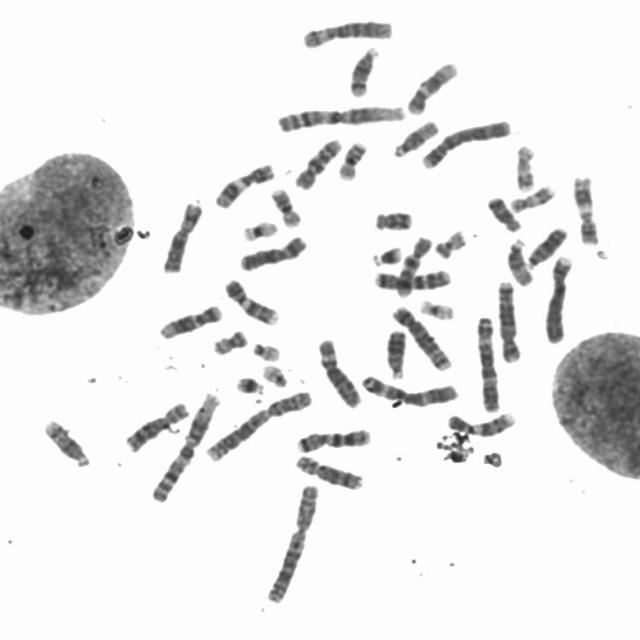A1: (147, 387, 224, 504), (272, 98, 408, 134)
A2: (200, 385, 314, 463), (262, 479, 322, 606)
A3: (358, 371, 462, 408), (472, 312, 503, 413)
B4: (416, 114, 514, 170), (539, 251, 575, 345)
B5: (388, 300, 454, 372), (494, 276, 524, 364)
C10: (290, 133, 344, 191), (393, 231, 434, 299)
C11: (210, 158, 277, 210), (569, 170, 602, 246)
C12: (403, 57, 461, 116), (155, 300, 225, 340)
C6: (314, 333, 365, 410), (298, 15, 394, 50)
C7: (292, 424, 373, 454), (370, 264, 454, 292)
C8: (121, 397, 191, 454), (292, 450, 366, 491)
C9: (220, 274, 281, 327), (444, 407, 518, 438)
D13: (523, 223, 570, 270), (382, 326, 410, 380)
D14: (40, 415, 92, 469), (345, 42, 382, 98)
D15: (388, 116, 441, 159), (503, 234, 536, 288)
E16: (268, 184, 304, 228), (335, 137, 369, 181)
E17: (506, 180, 558, 214), (512, 140, 538, 194)
E18: (483, 191, 523, 234), (370, 206, 415, 232)
F19: (238, 216, 280, 243), (416, 295, 456, 321)
F20: (431, 226, 469, 260), (208, 326, 250, 356)
G21: (368, 241, 405, 267), (232, 370, 268, 396)
G22: (258, 360, 290, 388), (249, 338, 282, 362)
X: (158, 197, 205, 274), (234, 230, 309, 273)
